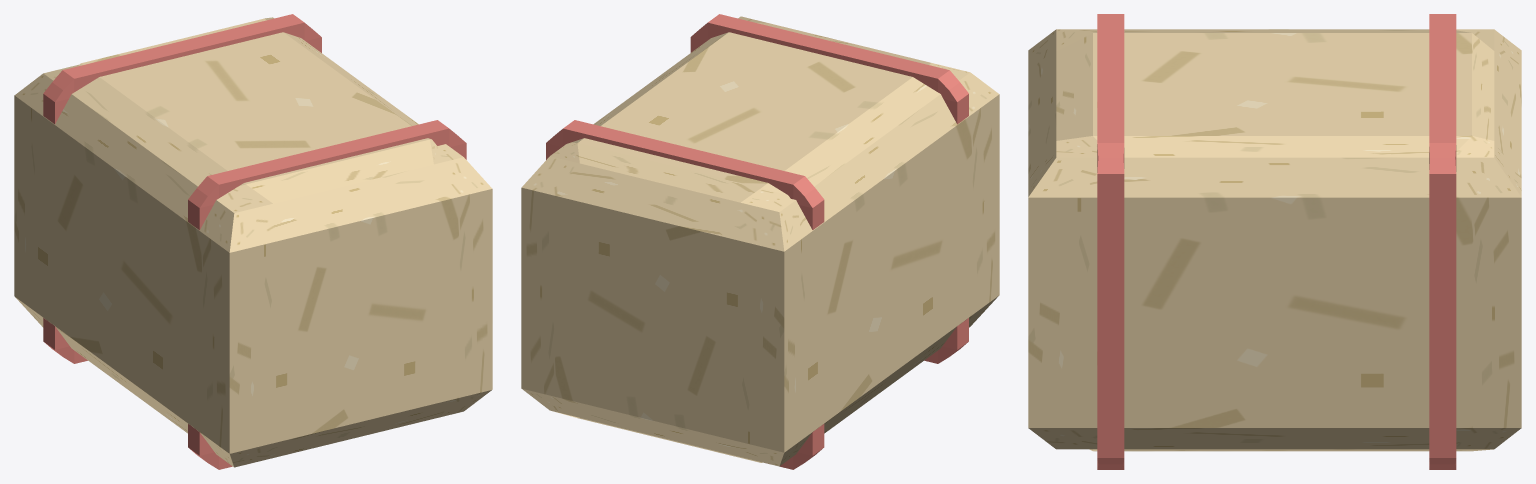
File: hay.fbx
3 renders of one model, left to right at view 1: azimuth 30°, elevation 25°; view 2: azimuth 150°, elevation 25°; view 3: azimuth 270°, elevation 25°, orthographic. The views are drawn at different scales.
Visible parts, largest first — view 1: Cube.001, Cube.003, Cube.002; view 2: Cube.001, Cube.002, Cube.003; view 3: Cube.001, Cube.002, Cube.003.
Part boxes in pixels (<box>): Cube.001: <box>14,17,492,467</box>; Cube.003: <box>188,120,466,469</box>; Cube.002: <box>43,14,321,363</box>; Cube.001: <box>521,16,999,466</box>; Cube.002: <box>546,120,824,469</box>; Cube.003: <box>690,14,968,363</box>; Cube.001: <box>1028,29,1521,451</box>; Cube.002: <box>1429,14,1456,469</box>; Cube.003: <box>1097,14,1124,469</box>.
Size of the model in its own units: 96.45 by 98.45 by 135.
